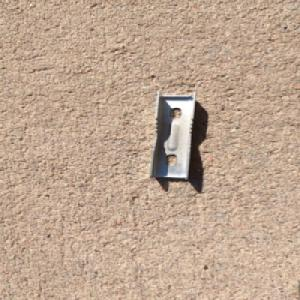ClampPart: (147, 90, 201, 182)
